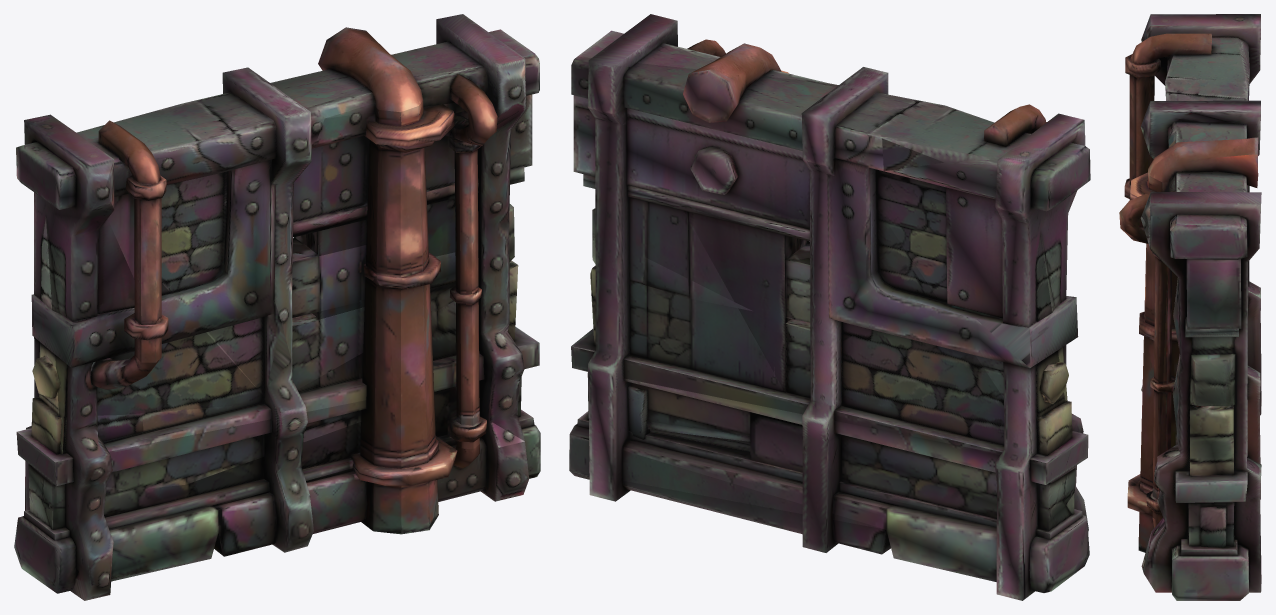
Rendered from Meshy_AI_Copperbound_Wall_0805024548_texture.fbx.
3 views of the same model, side by side, from view 1: azimuth 30°, elevation 25°; view 2: azimuth 150°, elevation 25°; view 3: azimuth 270°, elevation 25° (orthographic). The views are drawn at different scales.
Visible parts, largest first — view 1: mesh_node; view 2: mesh_node; view 3: mesh_node.
Part boxes in pixels (left/top/right/bottom): mesh_node: left=14, top=14, right=540, bottom=600; mesh_node: left=569, top=14, right=1090, bottom=600; mesh_node: left=1119, top=14, right=1261, bottom=600.
Bounding box in the file's own units: 100 × 90.23 × 28.71.
Materials: 1 (1 with a texture image).
